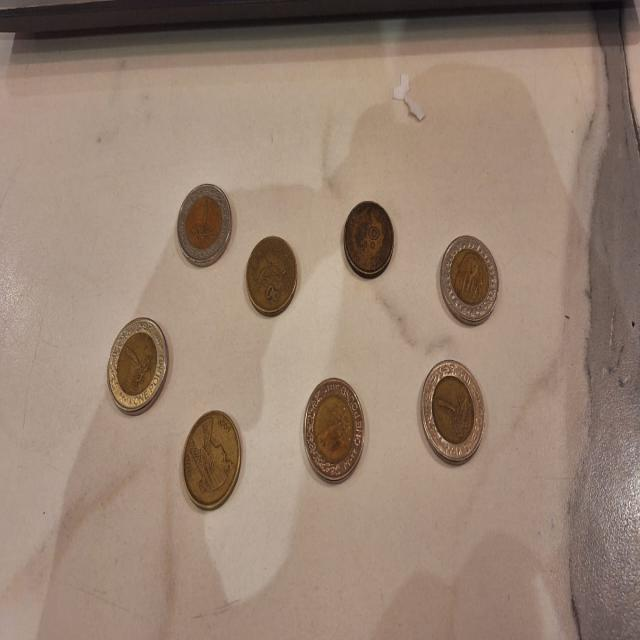Half Pound: (181, 408, 244, 512), (243, 232, 299, 321), (345, 198, 395, 280)
One Pound: (302, 372, 368, 484), (103, 312, 171, 420), (420, 359, 485, 467), (438, 230, 502, 328), (174, 180, 234, 266)
